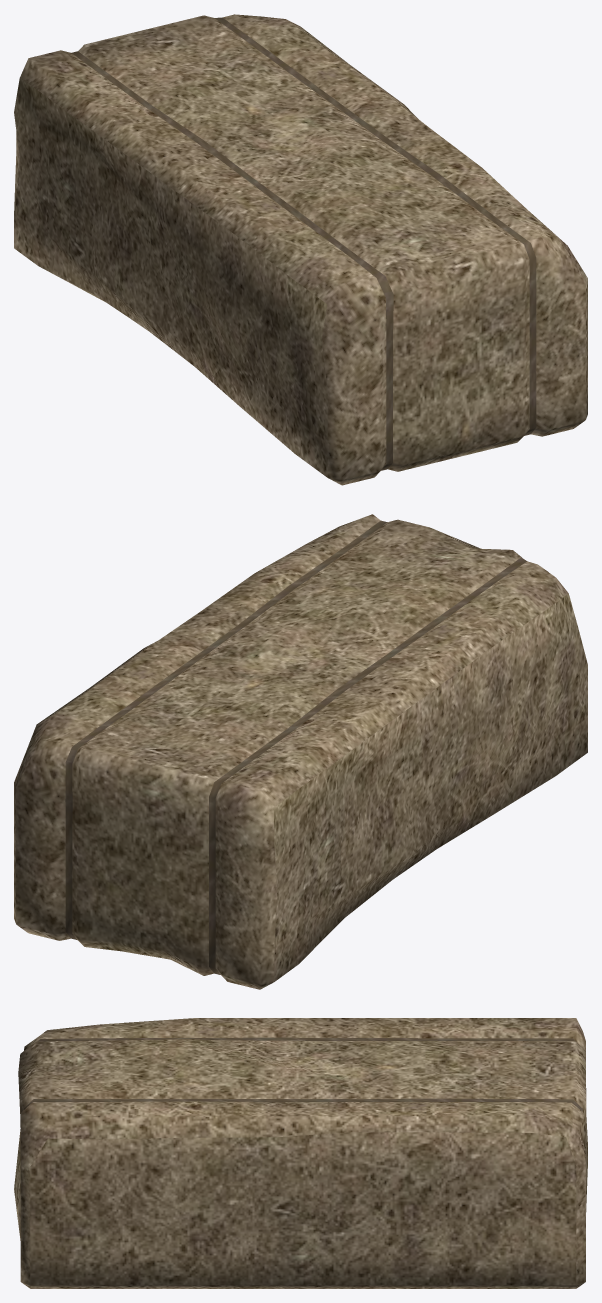
The model's file is hay_bale_square.glb.
3 renders of one model, top to bottom at view 1: azimuth 30°, elevation 25°; view 2: azimuth 150°, elevation 25°; view 3: azimuth 270°, elevation 25°, orthographic. The views are drawn at different scales.
Visible parts, largest first — view 1: Object_6; view 2: Object_6; view 3: Object_6.
Boxes of the visible parts, x1=… form: Object_6: x1=14, y1=14, x2=587, y2=485; Object_6: x1=14, y1=514, x2=587, y2=989; Object_6: x1=14, y1=1018, x2=587, y2=1288.
Size of the model in its own units: 0.7062 by 0.5074 by 1.47.
1 material, 1 textured.
